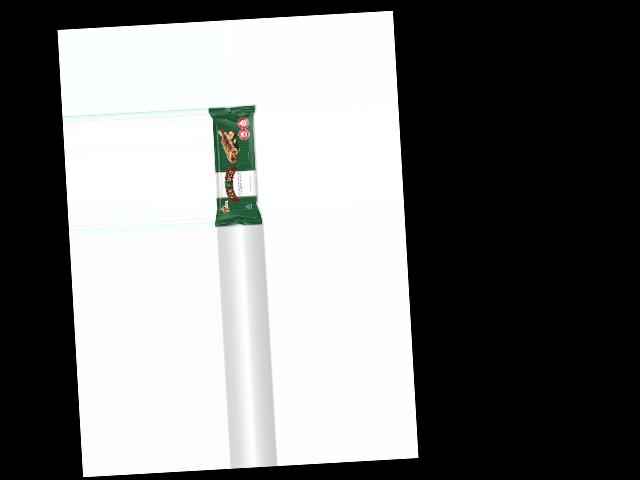chocolate: (208, 104, 264, 228)
